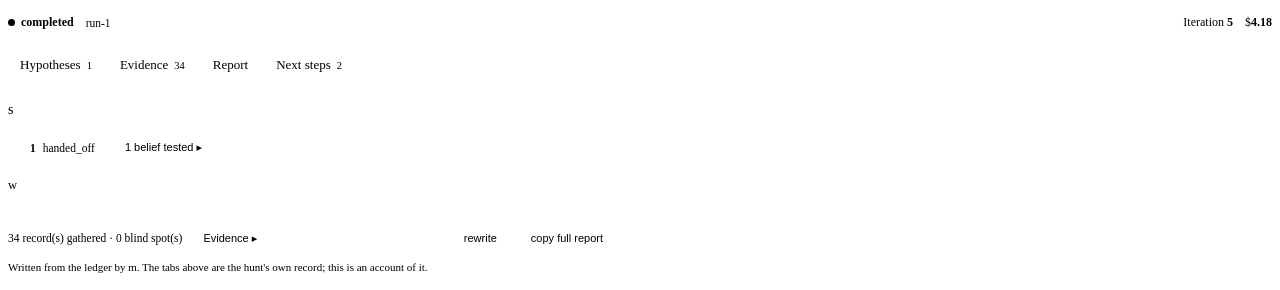
the report › gives what to do now its own tab, counted in the label
Click the tab "Next steps2": (309, 65) [264,51,354,79]
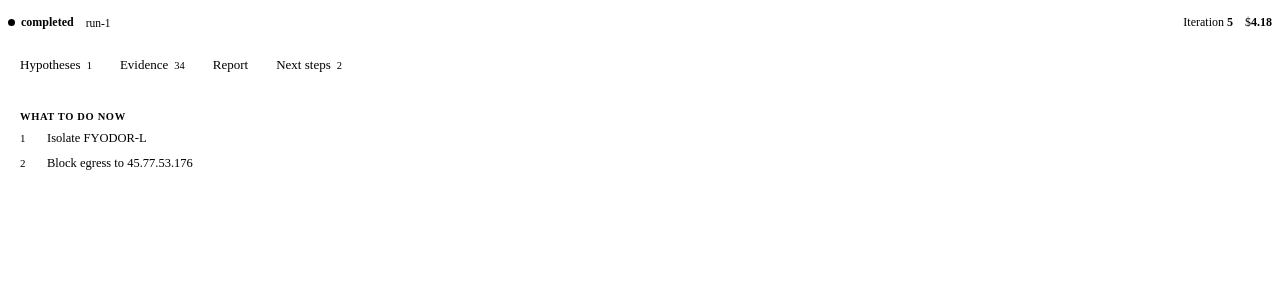
Expected: the text "What to do now" is shown, [20,111,126,122]
Expected: the text "Isolate FYODOR-L" is shown, [47,129,147,148]
Expected: the text "Block egress to 45.77.53.176" is shown, [47,154,193,173]
